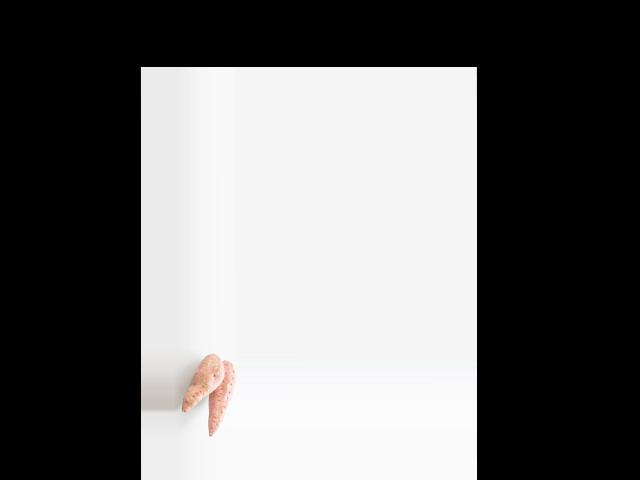sweet_potato: (208, 360, 234, 431)
